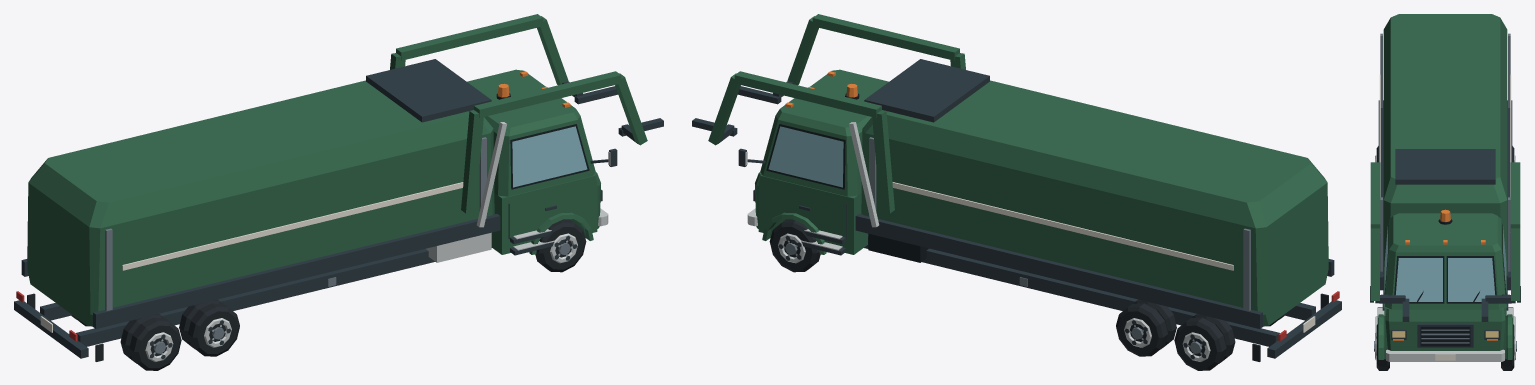
Rendered from b15_front_loader_refuse_truck.glb.
3 views of the same model, side by side, from view 1: azimuth 30°, elevation 25°; view 2: azimuth 150°, elevation 25°; view 3: azimuth 270°, elevation 25° (orthographic). The views are drawn at different scales.
Parts seen in each view (by area): view 1: b15_front_loader_refuse_truck; view 2: b15_front_loader_refuse_truck; view 3: b15_front_loader_refuse_truck.
Part boxes in pixels (x1=…): b15_front_loader_refuse_truck: x1=14, y1=14, x2=663, y2=370; b15_front_loader_refuse_truck: x1=692, y1=14, x2=1341, y2=370; b15_front_loader_refuse_truck: x1=1370, y1=14, x2=1520, y2=370.
Bounding box in the file's own units: 11.98 × 3.61 × 2.94.
